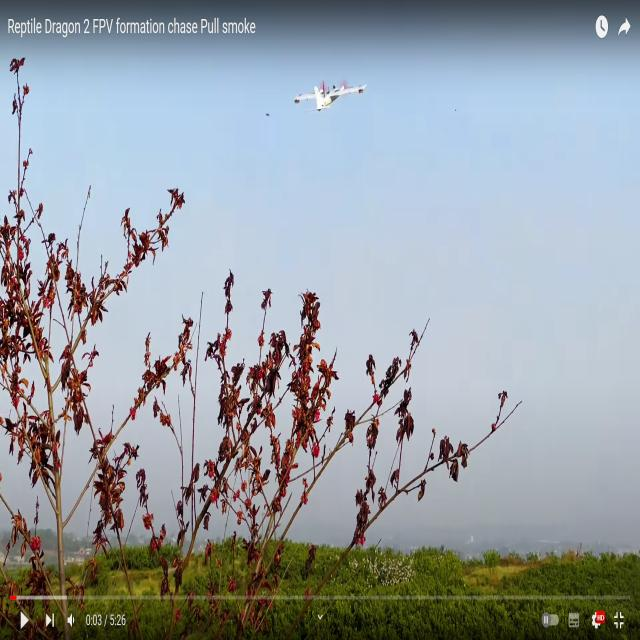iha: (322, 16, 325, 47)
